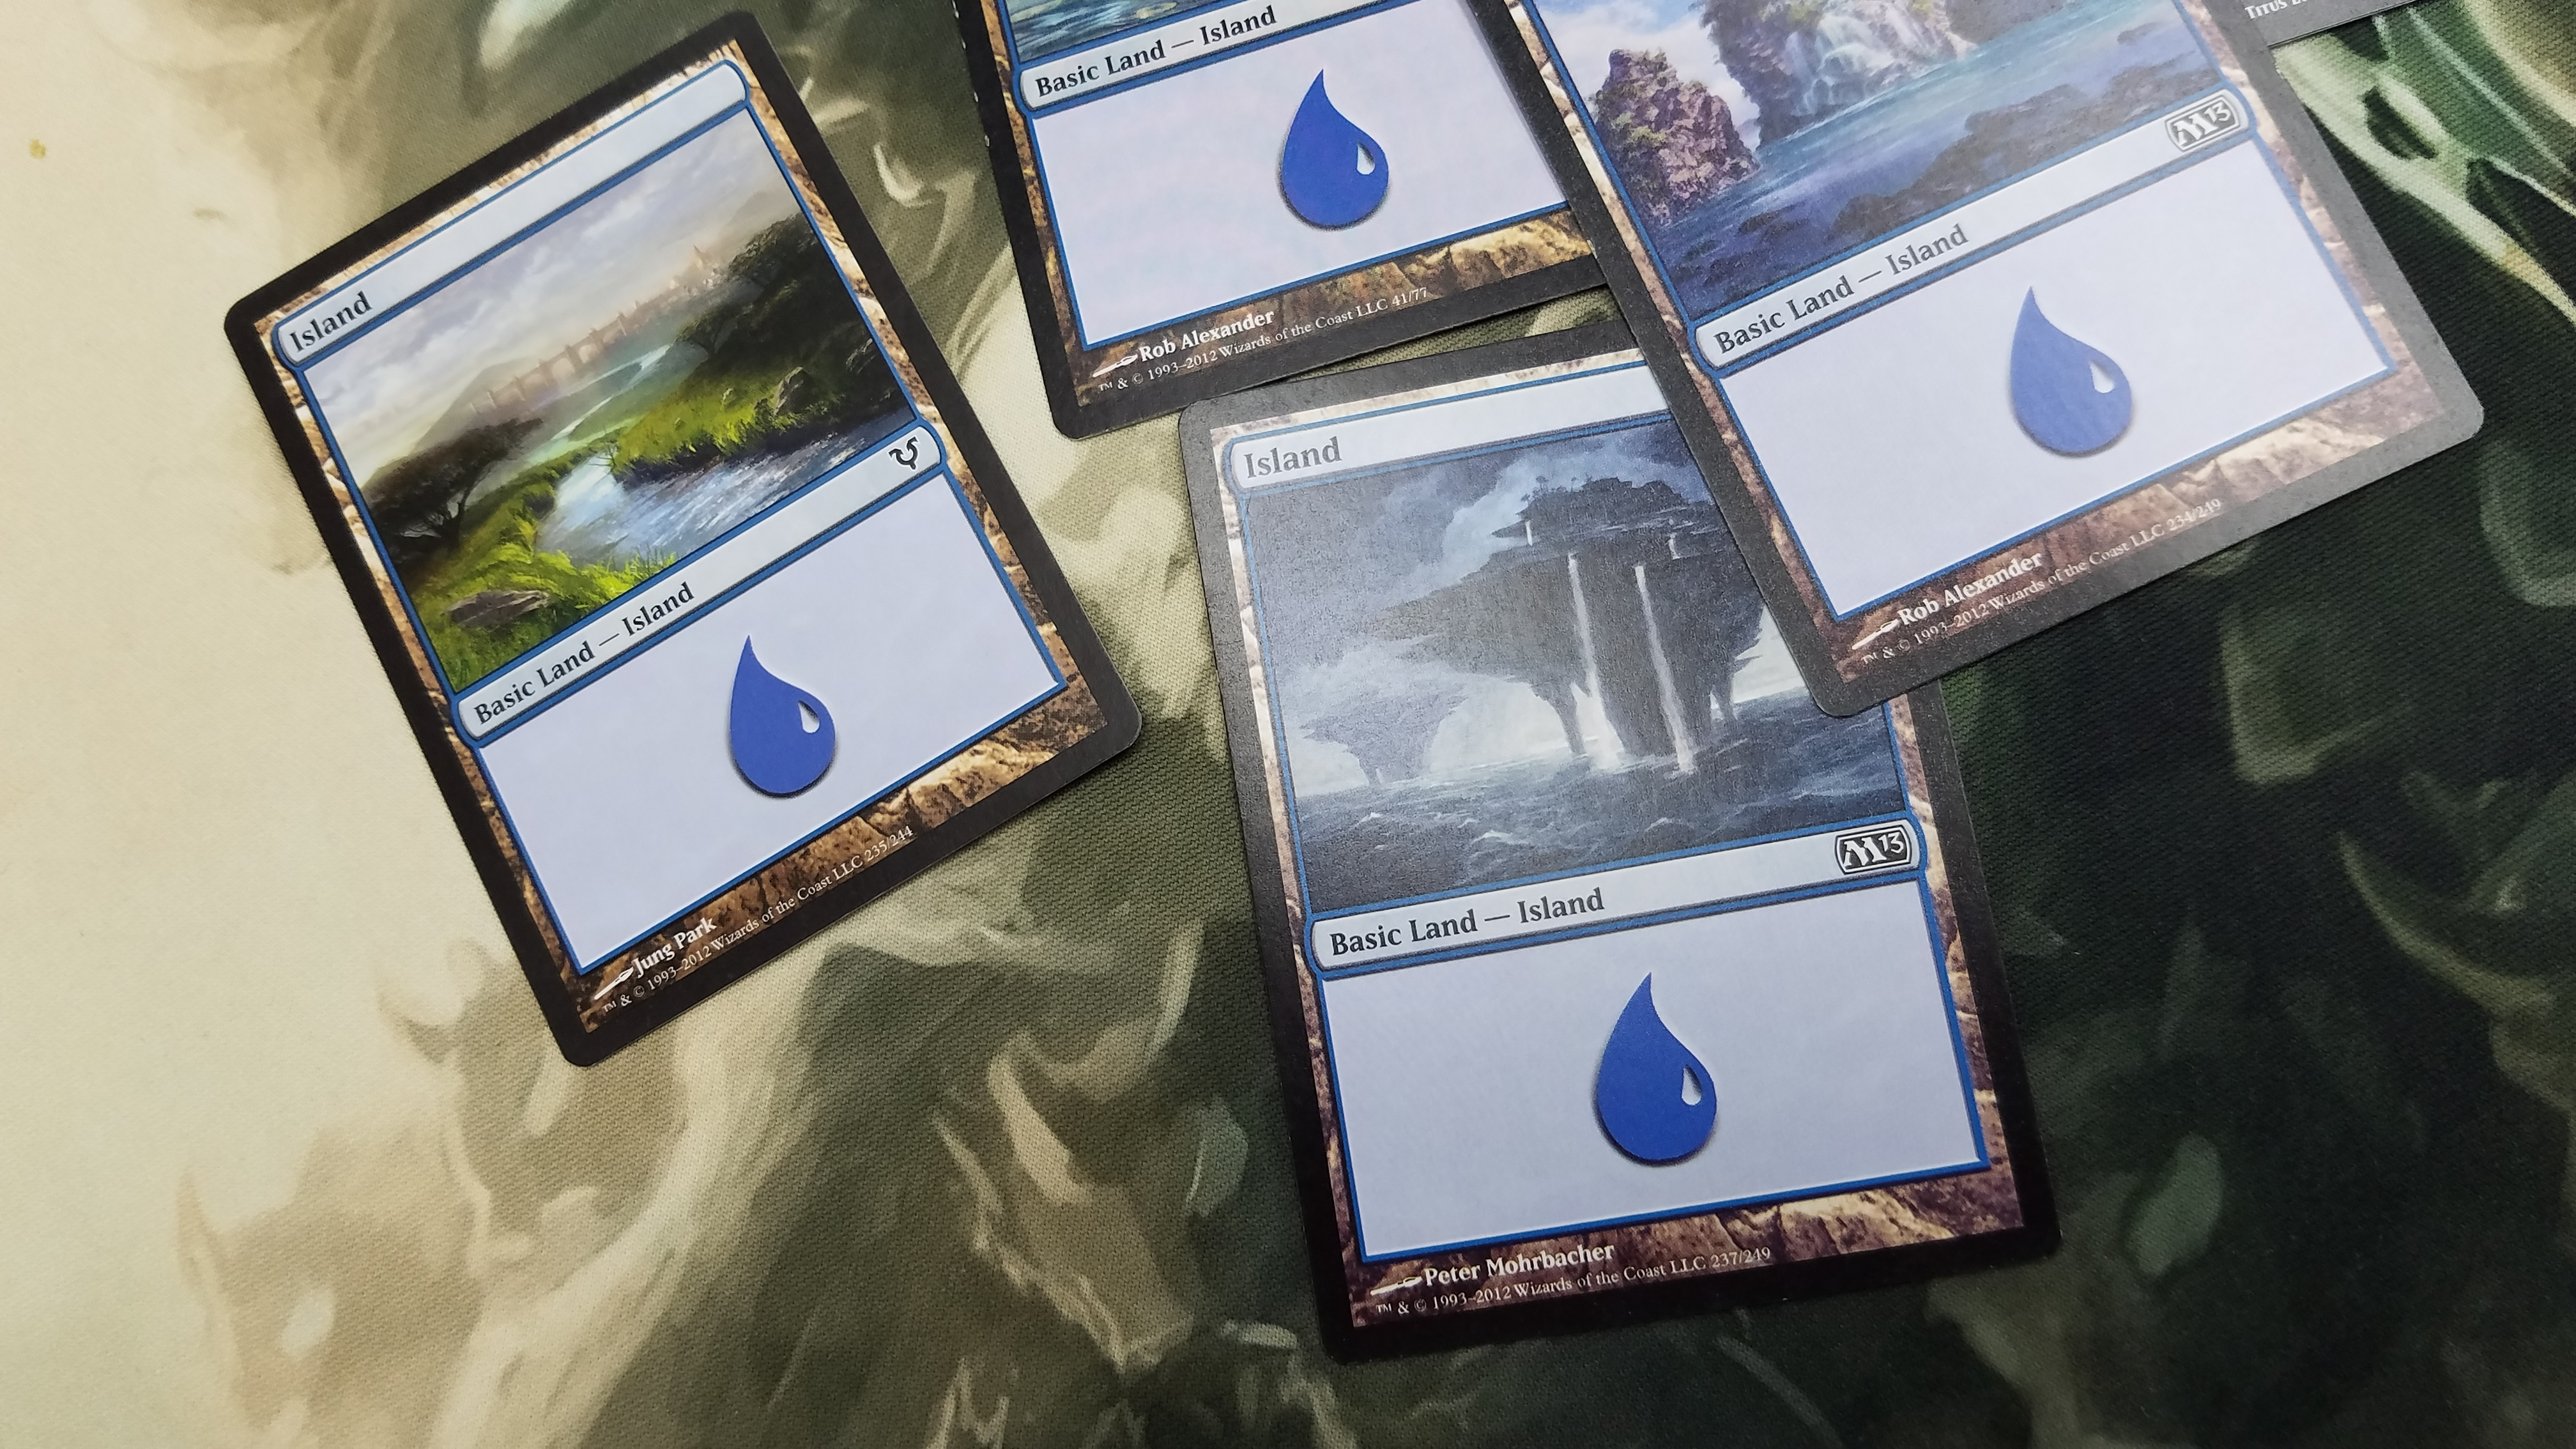Card: (205, 11, 1154, 1083), (1175, 313, 2081, 1357)
